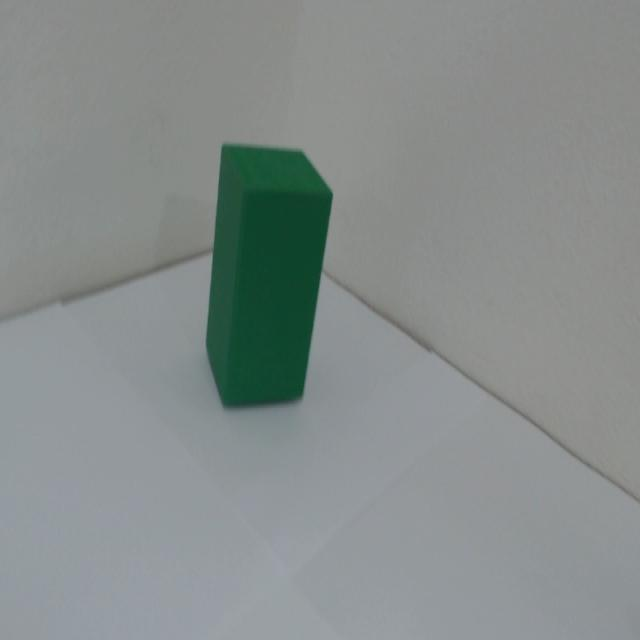cube: (189, 130, 343, 426)
